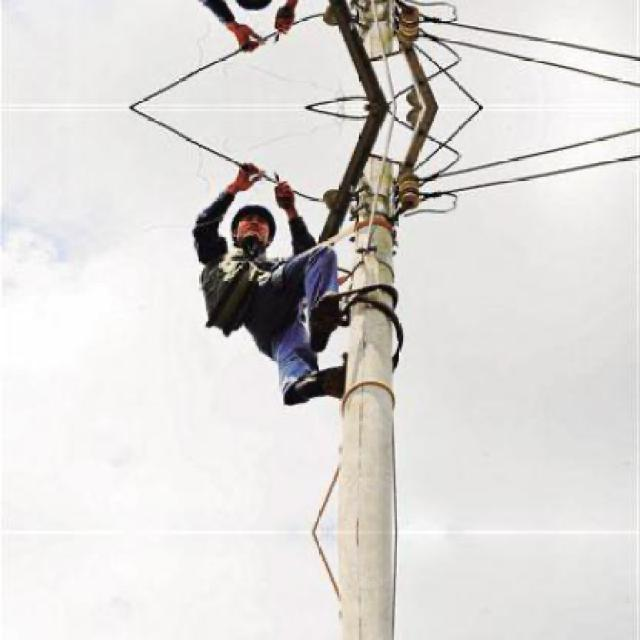sin casco: (203, 174, 311, 258)
